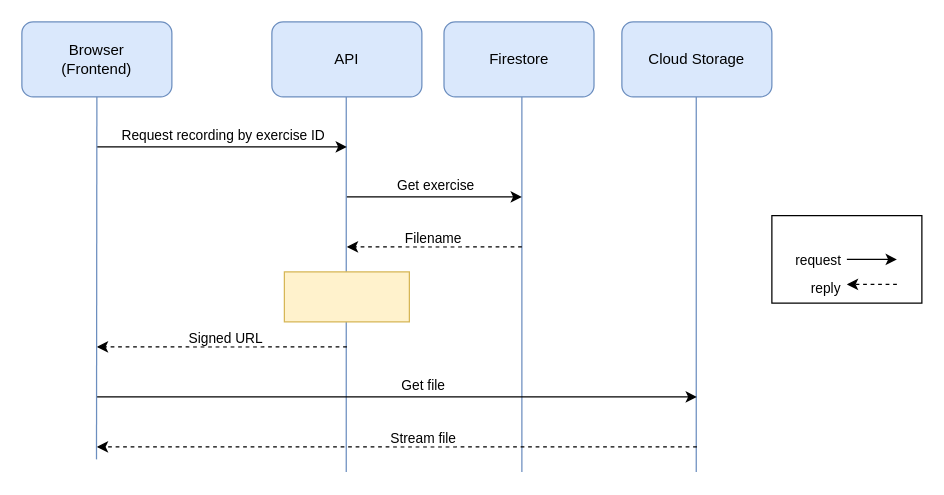
Image size: 944x495. Some labels were removed from this diagram. Each missing label, with the box of its shape:
Create signed URL: (283, 271, 409, 322)
Key: (771, 214, 922, 303)
